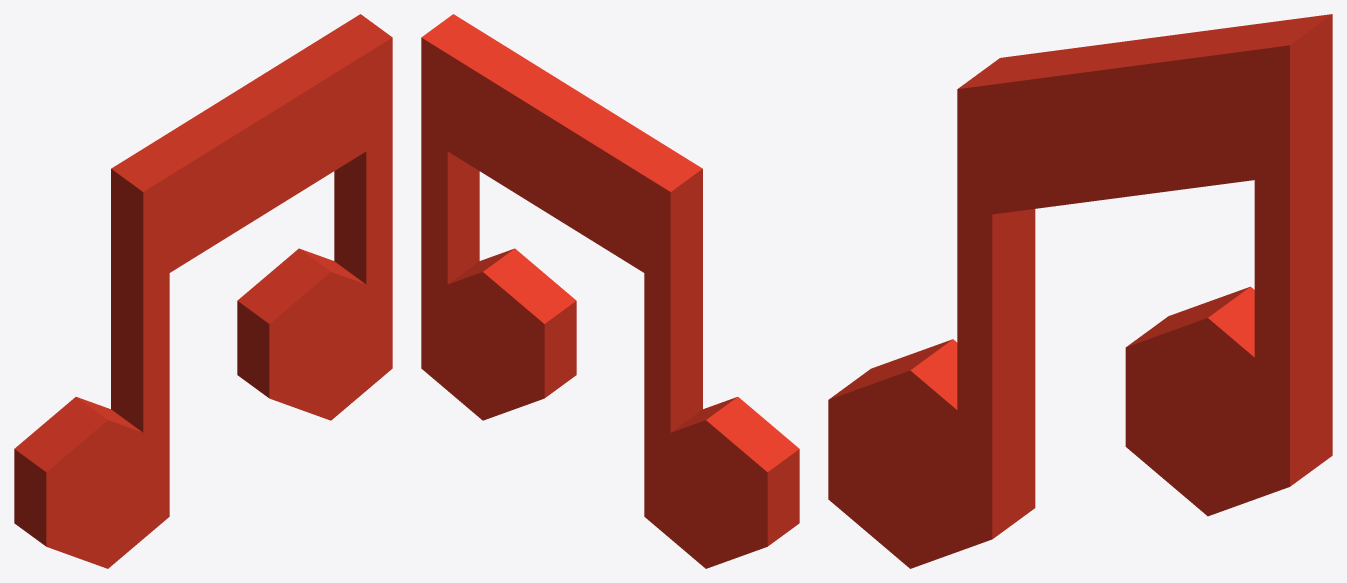
The model's file is Icon_Music.fbx.
3 renders of one model, left to right at view 1: azimuth 30°, elevation 25°; view 2: azimuth 150°, elevation 25°; view 3: azimuth 330°, elevation 25°, orthographic. The views are drawn at different scales.
Parts seen in each view (by area): view 1: Icon_Music; view 2: Icon_Music; view 3: Icon_Music.
Boxes of the visible parts, x1,y1,x2,y2 form: Icon_Music: (14,14,392,568); Icon_Music: (421,14,799,568); Icon_Music: (828,14,1332,568).
Bounding box in the file's own units: 55.6 × 70.9 × 8.93.
